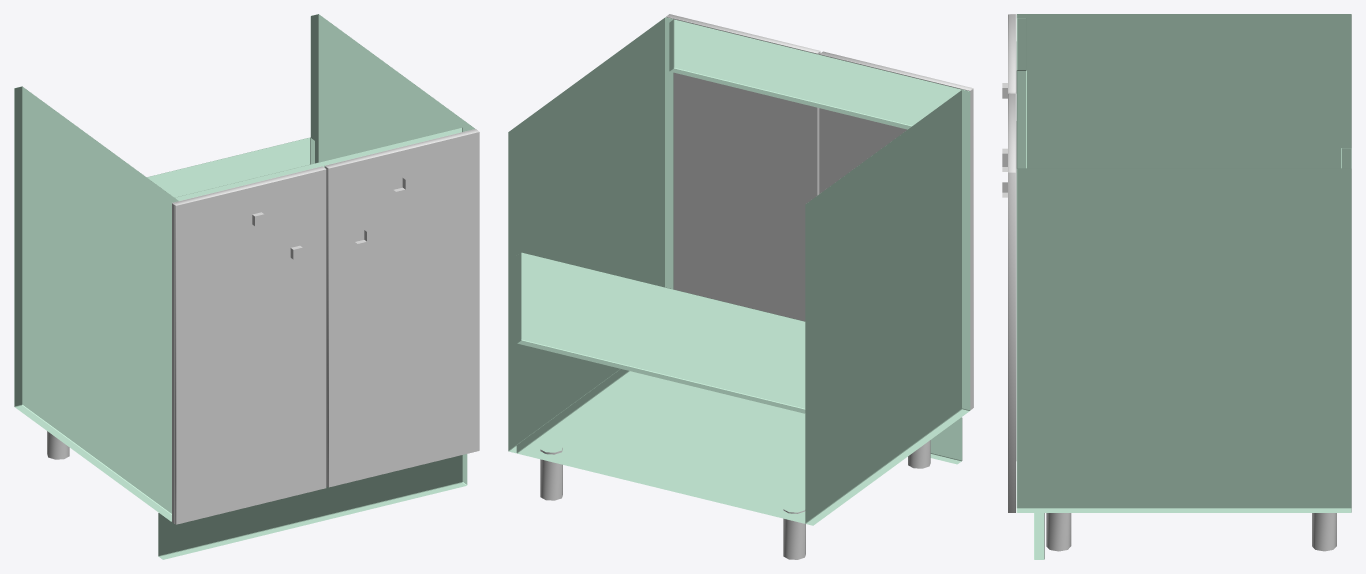
The picture shows the model from 3 angles, left to right: view 1: azimuth 30°, elevation 25°; view 2: azimuth 150°, elevation 25°; view 3: azimuth 270°, elevation 25°; orthographic projection. The views are drawn at different scales.
Parts seen in each view (by area): view 1: M_1CL_4, M_CL_1_F.004, M_1CL_1_F.003, M_1CL_1_F_C.003, M_1CL_1_F_C.004; view 2: M_1CL_4, M_1CL_1_F_A.004, M_1CL_1_F_B.004, M_1CL_1_F_A.003, Legs.003, M_1CL_1_F_C.003, M_1CL_1_F_C.004, M_1CL_1_F.003, M_CL_1_F.004; view 3: M_1CL_4, M_CL_1_F.004, Legs.003, M_1CL_1_F.003.
Part boxes in pixels (x1,y1,x2,y2): M_1CL_4: (14,14,474,559); M_CL_1_F.004: (325,129,479,487); M_1CL_1_F.003: (173,166,326,524); M_1CL_1_F_C.003: (172,203,174,523); M_1CL_1_F_C.004: (324,166,327,486); M_1CL_4: (508,17,970,525); M_1CL_1_F_A.004: (666,16,818,305); M_1CL_1_F_B.004: (741,35,819,321); M_1CL_1_F_A.003: (819,54,971,193); Legs.003: (540,440,930,559); M_1CL_1_F_C.003: (819,89,973,409); M_1CL_1_F_C.004: (673,52,820,294); M_1CL_1_F.003: (819,51,973,407); M_CL_1_F.004: (666,14,820,53); M_1CL_4: (1016,14,1351,559); M_CL_1_F.004: (1008,94,1015,512); Legs.003: (1046,513,1336,551); M_1CL_1_F.003: (1008,14,1015,93).
Size of the model in its own units: 7.55 by 8.65 by 7.03.
